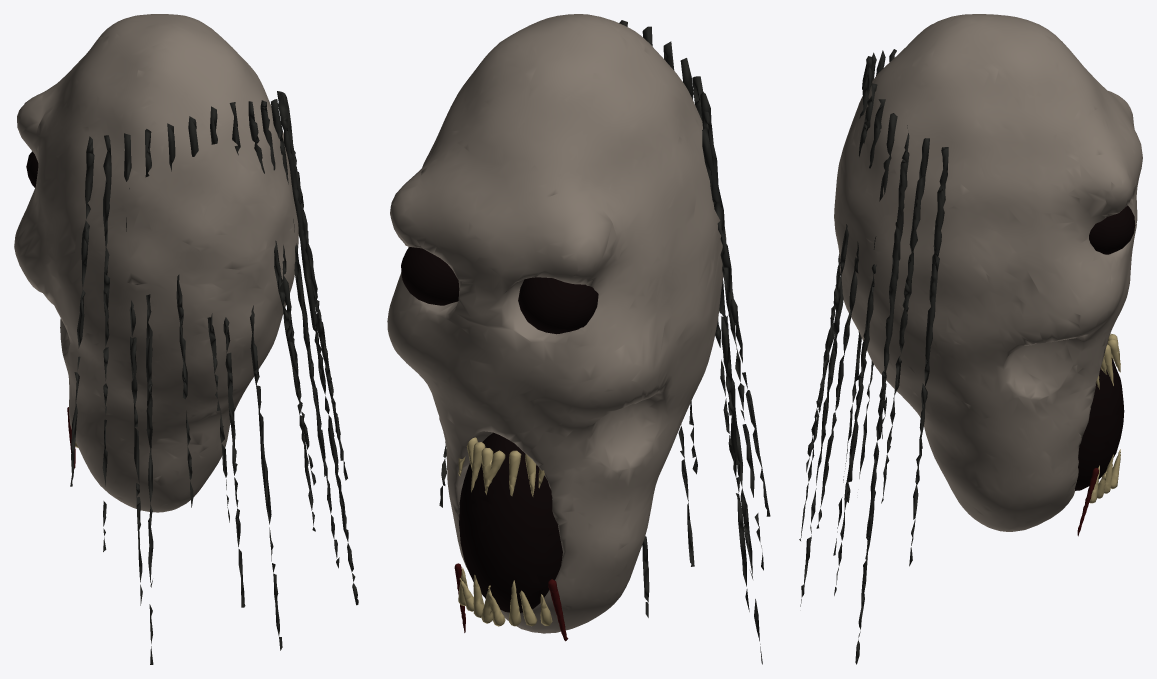
The model's file is long_man_head.obj.
3 renders of one model, left to right at view 1: azimuth 30°, elevation 25°; view 2: azimuth 150°, elevation 25°; view 3: azimuth 270°, elevation 25°, orthographic. The views are drawn at different scales.
Parts seen in each view (by area): view 1: skin, hair; view 2: skin, hole, hair, teeth, blood; view 3: skin, hair, hole, teeth.
Boxes of the visible parts, x1,y1,x2,y2 form: skin: (14,14,298,512); hair: (70,91,358,664); skin: (387,14,726,633); hole: (401,247,598,612); hair: (439,20,770,664); teeth: (458,437,552,626); blood: (454,563,568,641); skin: (834,14,1142,531); hair: (799,49,948,664); hole: (1075,205,1135,490); teeth: (1089,333,1120,503).
Bounding box in the file's own units: 0.2594 × 0.5076 × 0.2729.
